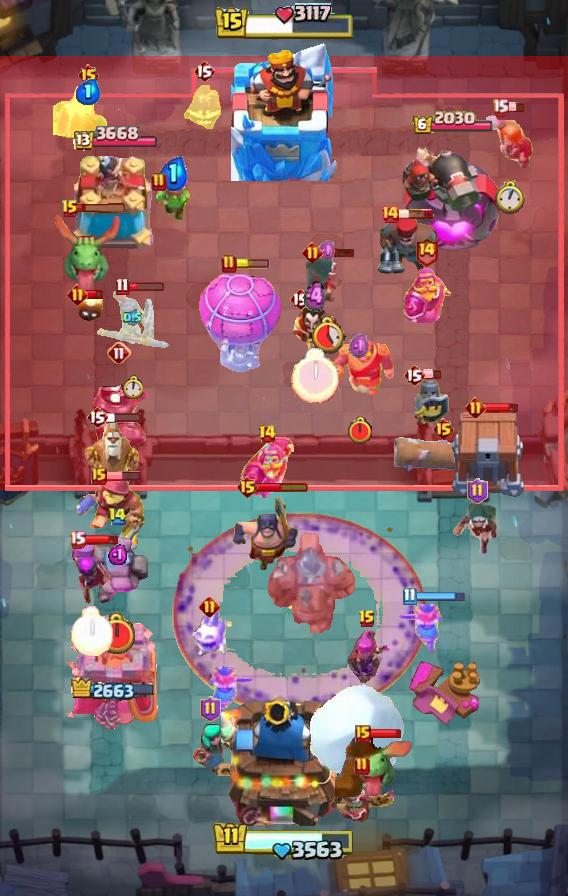archer-evolution: (342, 629, 392, 689)
bandit: (301, 253, 353, 305), (453, 500, 501, 556)
bar: (256, 481, 309, 493), (414, 591, 466, 602), (76, 203, 128, 214), (83, 534, 119, 546), (105, 470, 141, 482), (106, 411, 142, 423), (483, 402, 519, 414), (398, 208, 434, 220), (128, 281, 165, 292), (320, 247, 356, 258), (368, 728, 402, 739), (234, 259, 270, 269), (423, 369, 442, 380), (85, 289, 104, 300), (506, 102, 525, 113)
bar-level: (414, 236, 439, 267), (107, 341, 131, 365), (236, 475, 259, 499), (432, 417, 455, 441), (77, 63, 100, 87), (200, 696, 221, 722), (467, 478, 488, 504), (86, 405, 108, 429), (403, 363, 425, 387), (289, 287, 311, 311), (193, 59, 215, 83), (199, 596, 220, 617), (465, 397, 486, 418), (67, 284, 88, 305), (302, 242, 323, 263), (380, 204, 400, 224), (258, 424, 277, 444), (108, 507, 127, 526), (358, 609, 376, 629), (61, 199, 79, 219), (69, 530, 86, 549), (492, 98, 509, 117), (354, 756, 370, 776), (221, 254, 237, 274), (151, 172, 167, 192), (355, 725, 371, 743), (91, 467, 107, 485), (402, 587, 417, 606), (115, 277, 130, 296)
cannoneer-tower: (402, 136, 504, 256)
clock: (291, 348, 339, 404), (70, 606, 113, 656), (97, 612, 137, 656), (309, 315, 346, 354), (495, 180, 525, 215), (347, 416, 373, 445), (122, 375, 143, 399)
electro-spirit: (184, 85, 224, 129)
electro-wizard: (289, 304, 341, 358)
elixir: (158, 156, 188, 191), (304, 280, 326, 314), (76, 79, 101, 105), (349, 332, 371, 360), (318, 239, 337, 262), (108, 543, 127, 565), (123, 309, 142, 326)
executioner: (229, 492, 299, 572)
fire-spirit: (76, 294, 104, 324)
golemite: (86, 531, 148, 607)
guard: (94, 289, 170, 353), (410, 371, 450, 429)
hunter: (374, 214, 440, 276)
ice-spirit-evolution: (189, 607, 229, 659)
king-tower: (221, 690, 347, 826), (231, 43, 337, 181)
king-tower-bar: (212, 821, 356, 863), (213, 3, 355, 43)
knight: (326, 339, 395, 396)
knight-evolution: (240, 436, 294, 499), (402, 267, 451, 325)
little-prince: (328, 770, 397, 826)
mother-witch: (66, 537, 116, 607)
queen-tower: (66, 614, 163, 731), (68, 156, 160, 256)
rascal-girl: (189, 724, 231, 776)
royal-ghost: (53, 86, 123, 144)
spear-goblin: (154, 179, 192, 227)
the-log: (392, 432, 494, 476)
tower-bar: (71, 126, 157, 153), (71, 677, 157, 703), (412, 110, 494, 136)
valkyrie: (483, 111, 537, 171), (207, 665, 255, 719), (397, 602, 445, 656)
